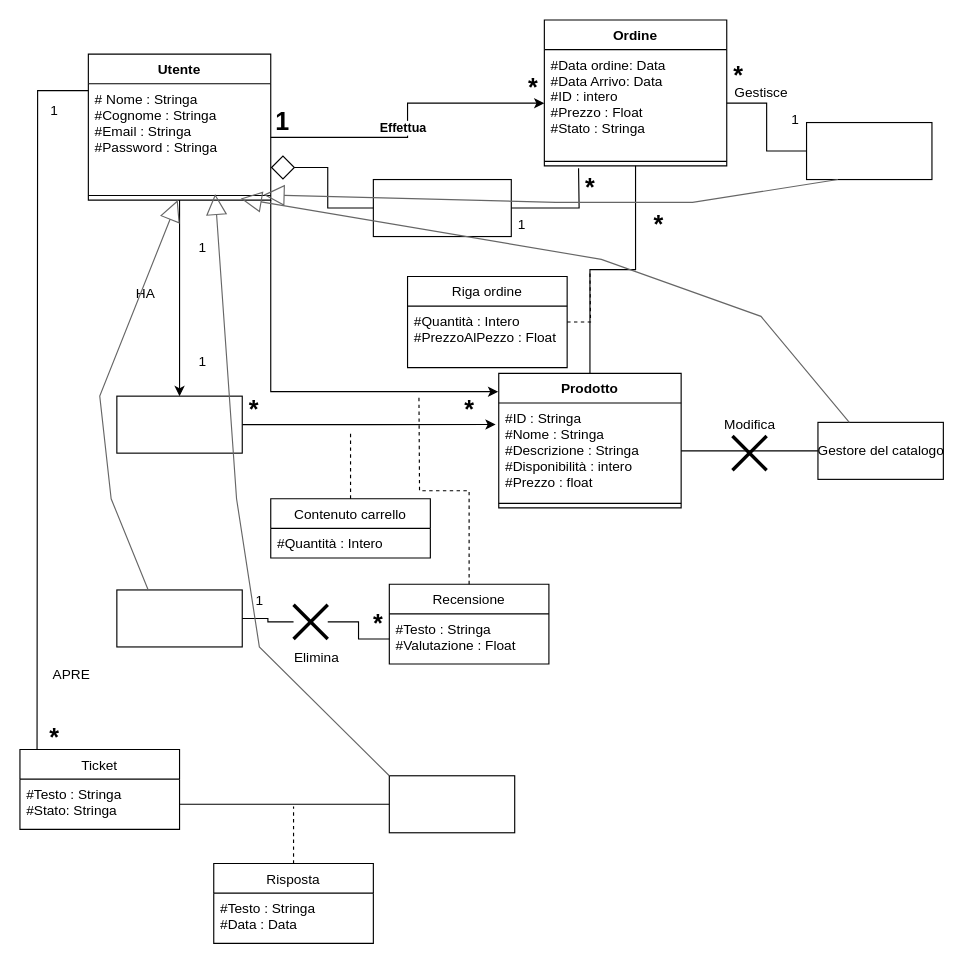
Image size: 963x967. Some labels were removed from this diagram. Here are the shapes that lost their labels. From the top down, the centre of each, then its label:
(x=868, y=150): Gestore Ordini
(x=441, y=207): Indirizzo di spedizione
(x=179, y=424): Carrello
(x=179, y=618): Gestore degli utenti
(x=451, y=804): Farmacista
